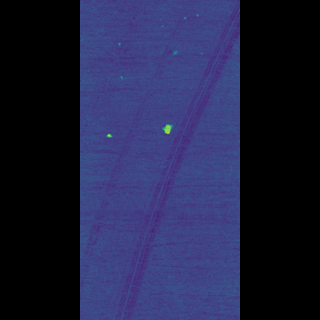Loch: (134, 1, 202, 320), (119, 14, 175, 304), (159, 122, 167, 136), (131, 132, 136, 139)
